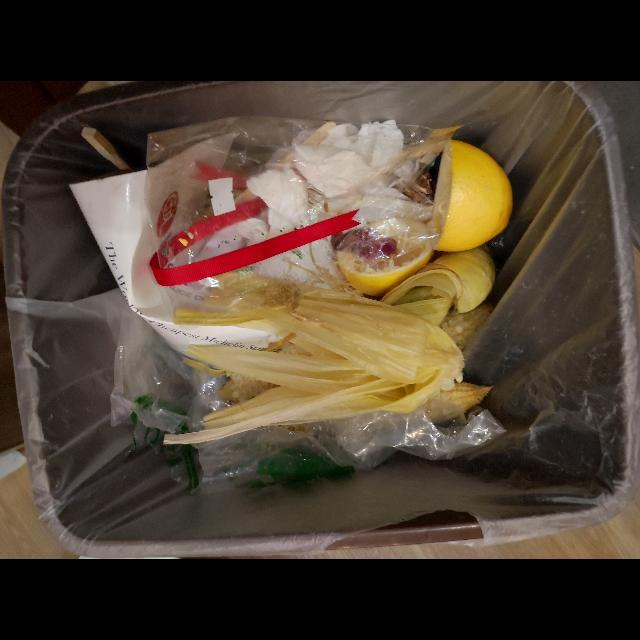biowaste: (163, 244, 496, 446), (428, 140, 513, 253), (338, 215, 434, 297)
paper: (69, 135, 289, 351)
plastic: (6, 289, 209, 435), (294, 120, 404, 199)
